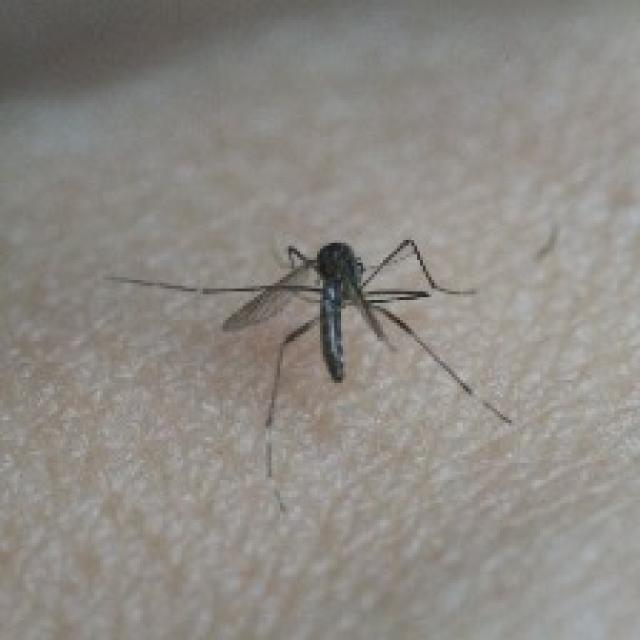aedes: (103, 232, 511, 512)
